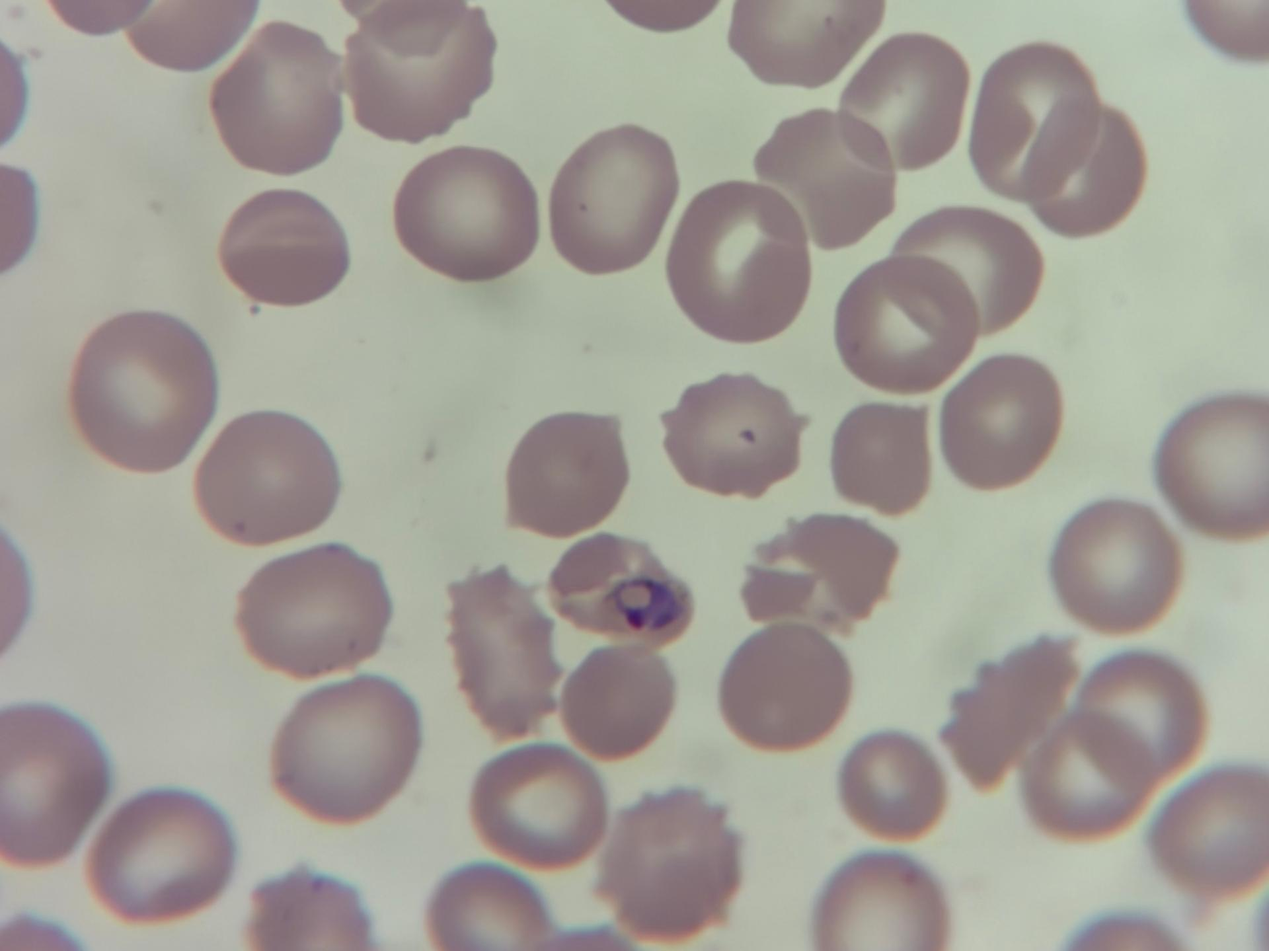Infected: (545, 531, 687, 645)
Uninfected: (664, 182, 813, 344), (66, 309, 217, 466), (593, 786, 739, 940), (341, 3, 499, 143), (231, 541, 389, 680), (270, 677, 419, 823), (945, 631, 1078, 791), (652, 373, 812, 505), (970, 43, 1102, 202), (210, 22, 344, 173), (391, 145, 540, 280), (888, 208, 1039, 341), (835, 252, 979, 391), (446, 566, 562, 735), (194, 411, 339, 546), (547, 124, 678, 270), (89, 789, 232, 922), (754, 112, 892, 248), (467, 741, 606, 870), (1077, 653, 1210, 786), (1047, 498, 1178, 632), (748, 513, 895, 632), (216, 184, 354, 309), (718, 624, 851, 751), (841, 33, 967, 167), (1027, 102, 1149, 239), (939, 354, 1062, 488), (1, 706, 107, 858), (502, 411, 629, 536), (1155, 397, 1269, 531), (1022, 718, 1145, 835), (1152, 769, 1269, 890), (559, 645, 673, 759), (813, 853, 946, 948), (837, 731, 946, 841), (831, 402, 932, 514)
